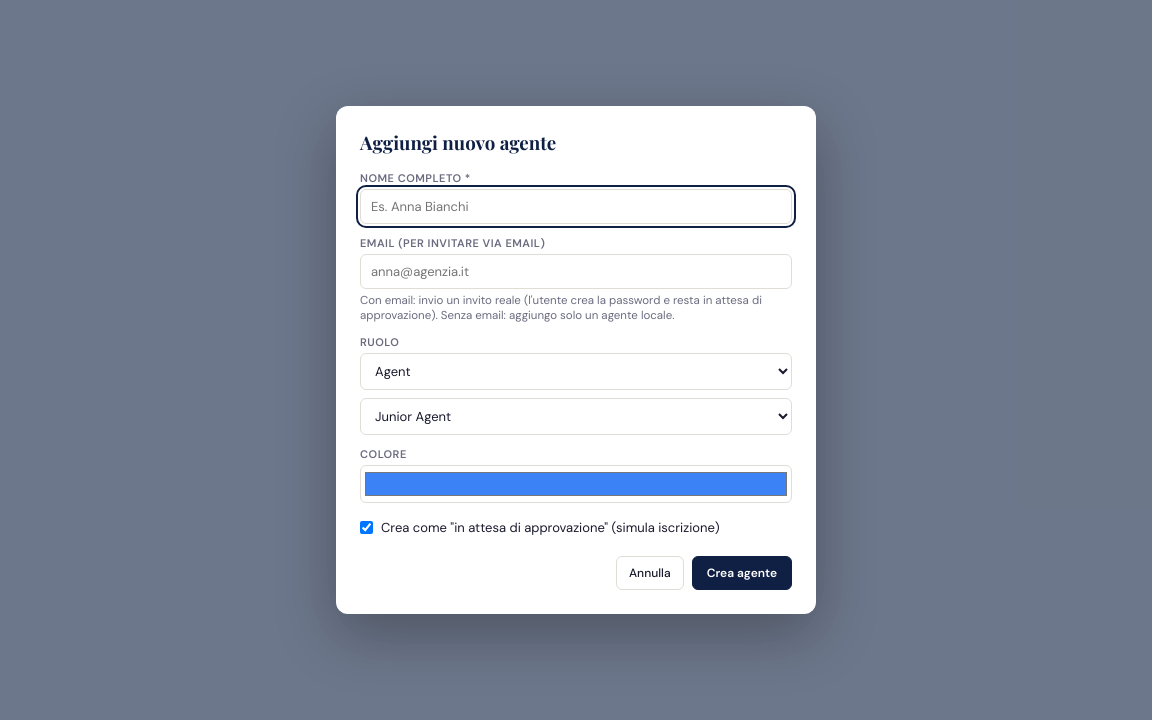
Test case: AddTeamMemberModal — nome ed email, ciascuno col proprio messaggio › nome vuoto E mail sbagliata: si vedono ENTRAMBI, non uno per volta
Type "non-una-mail" into the field with placeholder "anna@agenzia.it" at (576, 272), box [360, 254, 792, 289]
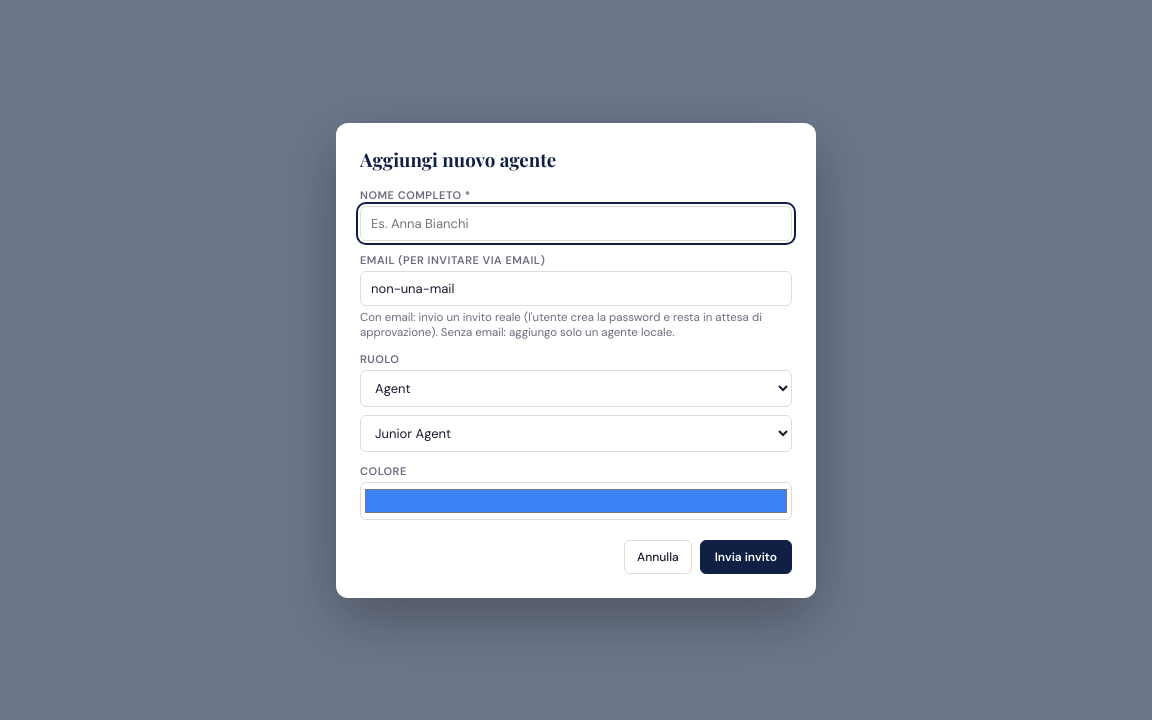
Click the button "Invia invito" at (746, 556), box [700, 540, 792, 574]
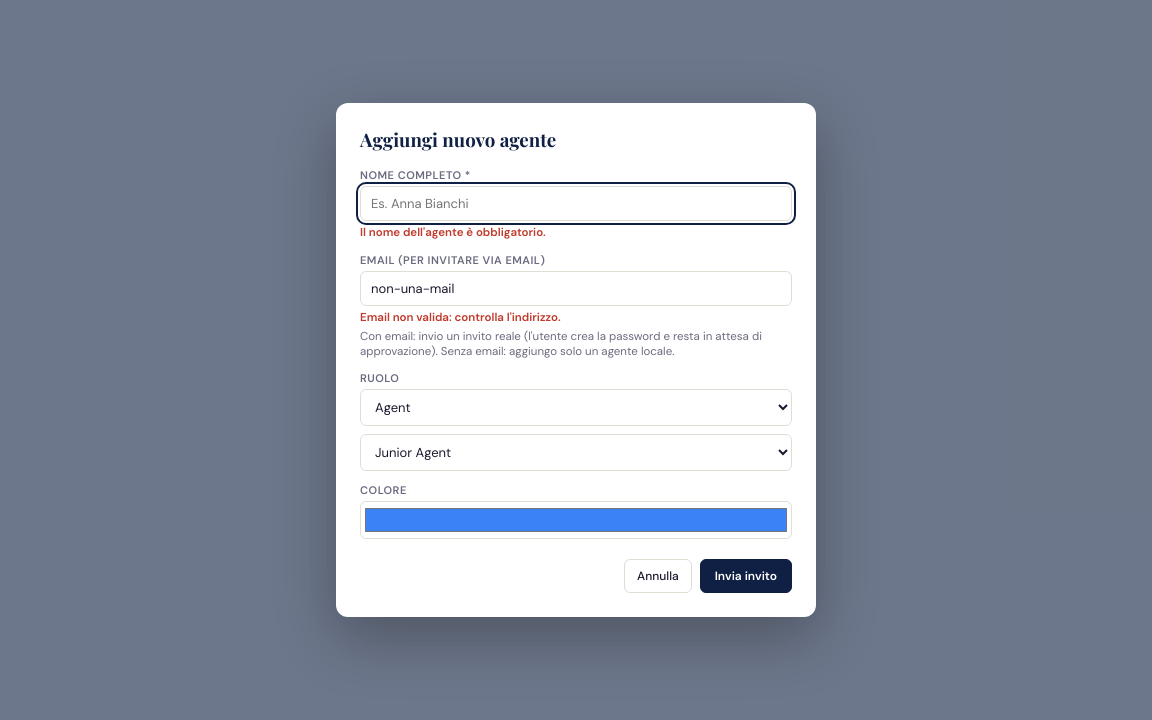
expect the number of messages is 2: met, box [360, 225, 546, 240]; [360, 310, 561, 324]
